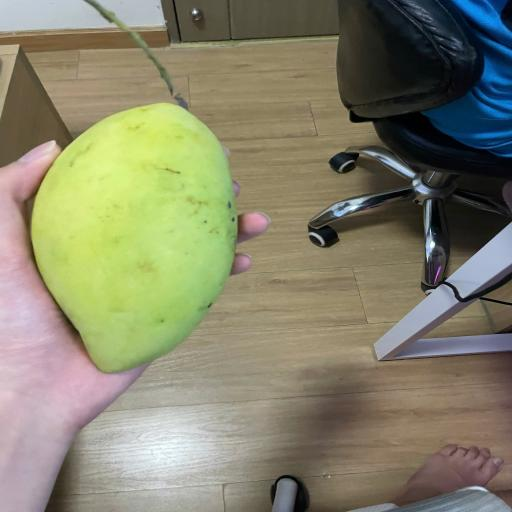xoai: (31, 103, 237, 372)
